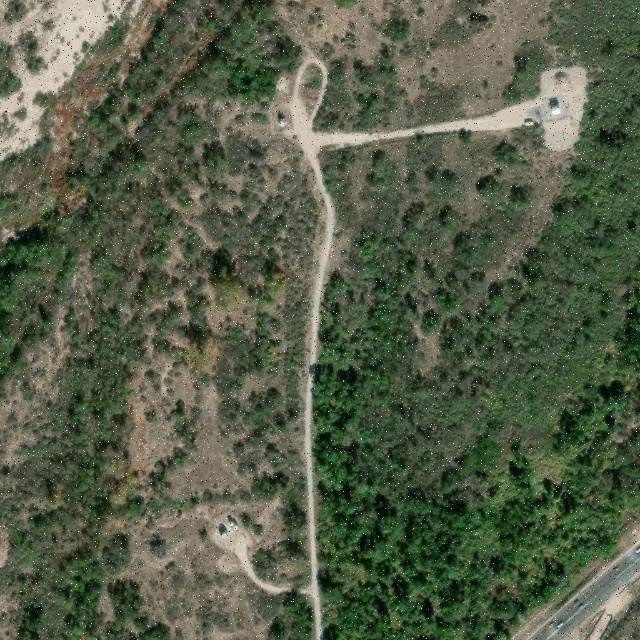vegetation: (311, 0, 640, 640), (0, 0, 324, 640), (312, 9, 412, 131), (266, 593, 315, 640)
